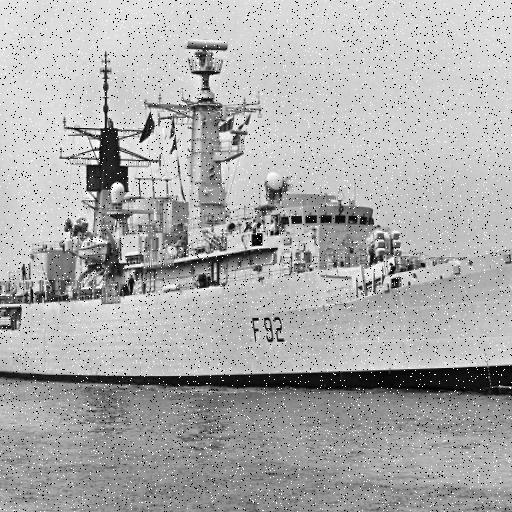Fragata: (1, 33, 512, 407)
